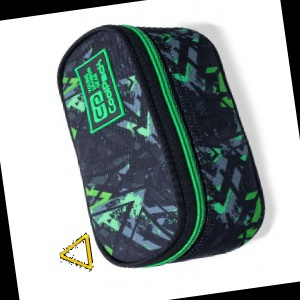triangle: (58, 231, 96, 272)
